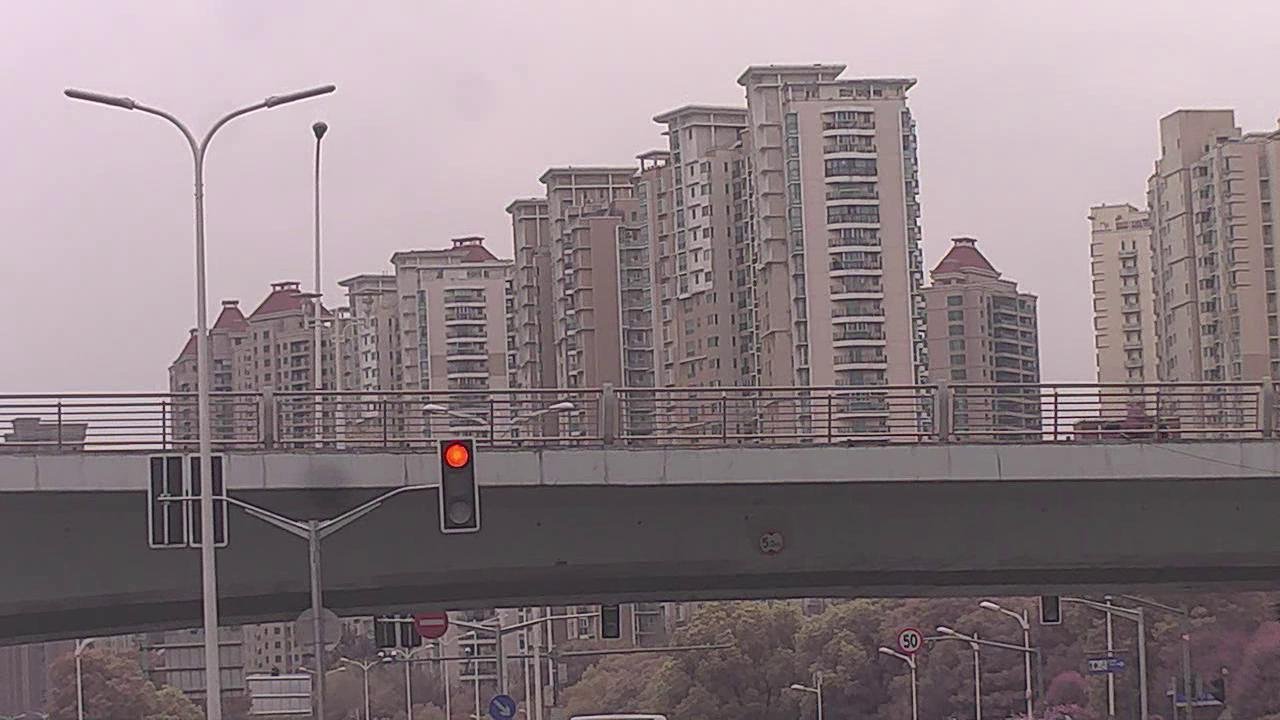traffic_light: (440, 436, 484, 536)
